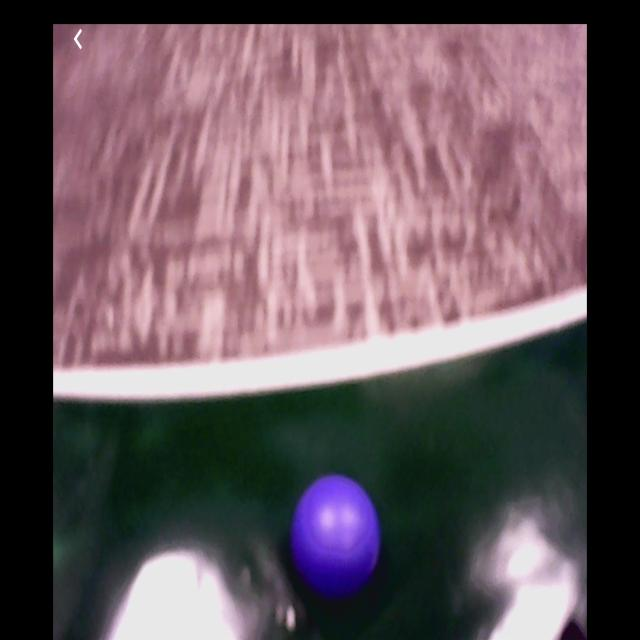ball: (294, 477, 382, 599)
